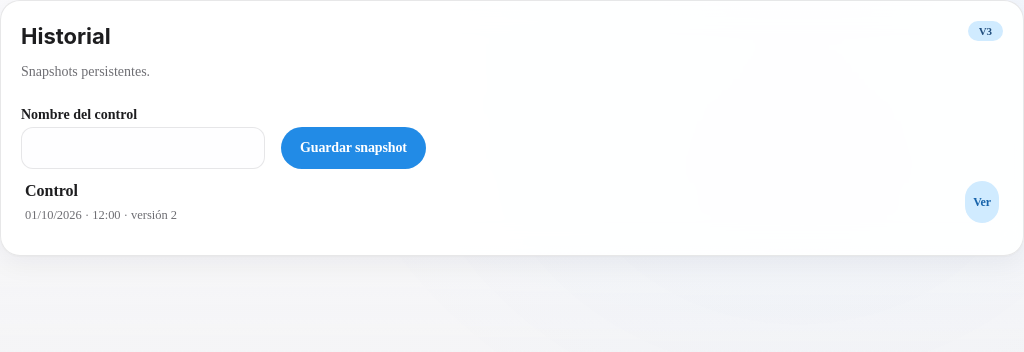
Test: OdontogramHistory › se queda en el actual si el borrador no se pudo guardar
This screenshot has width=1024, height=352.
Click the button "Ver" at (982, 202), box left=965, top=181, right=999, bottom=223
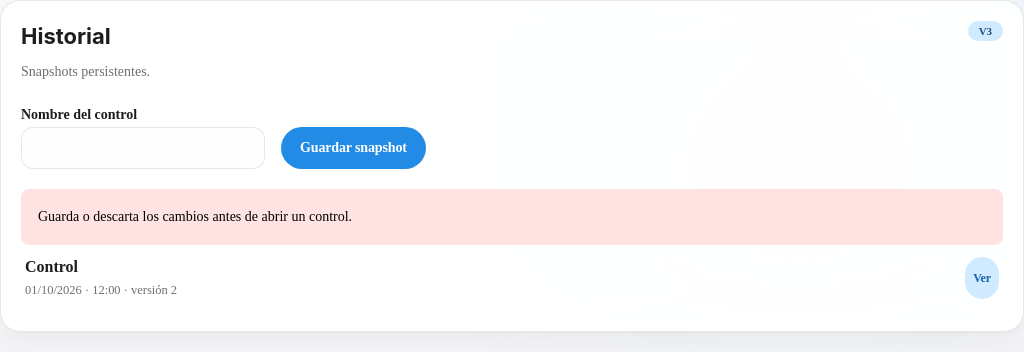
Now the text "Guarda o descarta los cambios antes de abrir un control." is shown, box left=38, top=209, right=352, bottom=224
